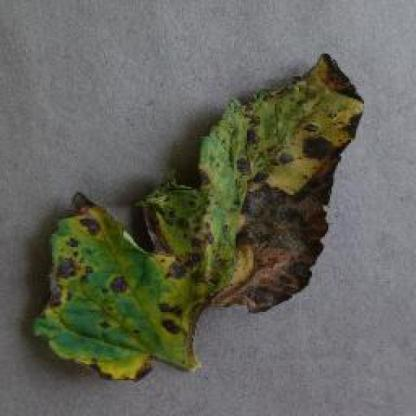Strawberry_Angular_LeafSpot: (235, 178, 331, 313), (298, 125, 346, 166), (156, 302, 187, 338), (51, 256, 84, 282), (106, 272, 131, 297), (82, 215, 100, 239)
